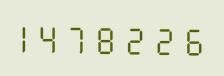eight: (98, 19, 124, 56)
four: (44, 18, 70, 55)
one: (17, 18, 43, 54)
seven: (71, 19, 97, 55)
six: (179, 21, 205, 57)
two: (152, 20, 178, 57), (125, 20, 151, 56)
